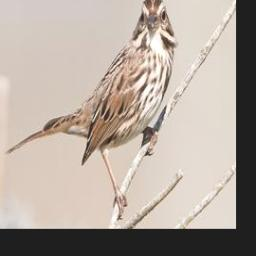Sparrow: (3, 0, 180, 221)
